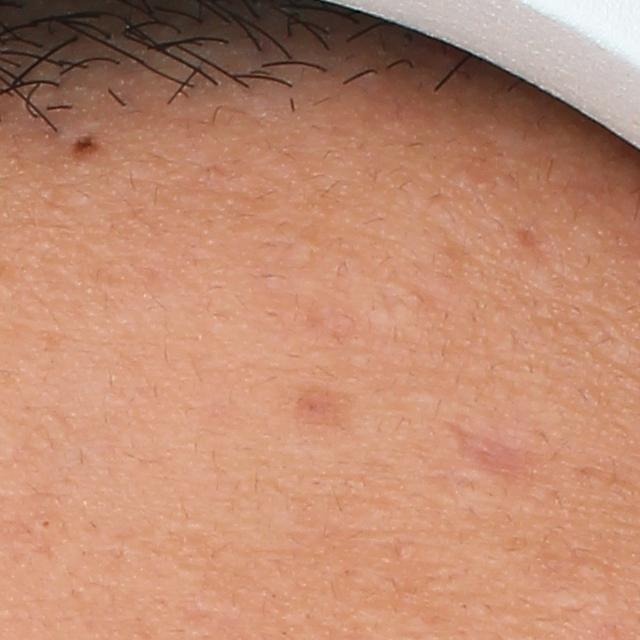atrophic_scar: (452, 428, 557, 492)
comedo: (36, 517, 54, 530)
nevus: (67, 132, 100, 163)
